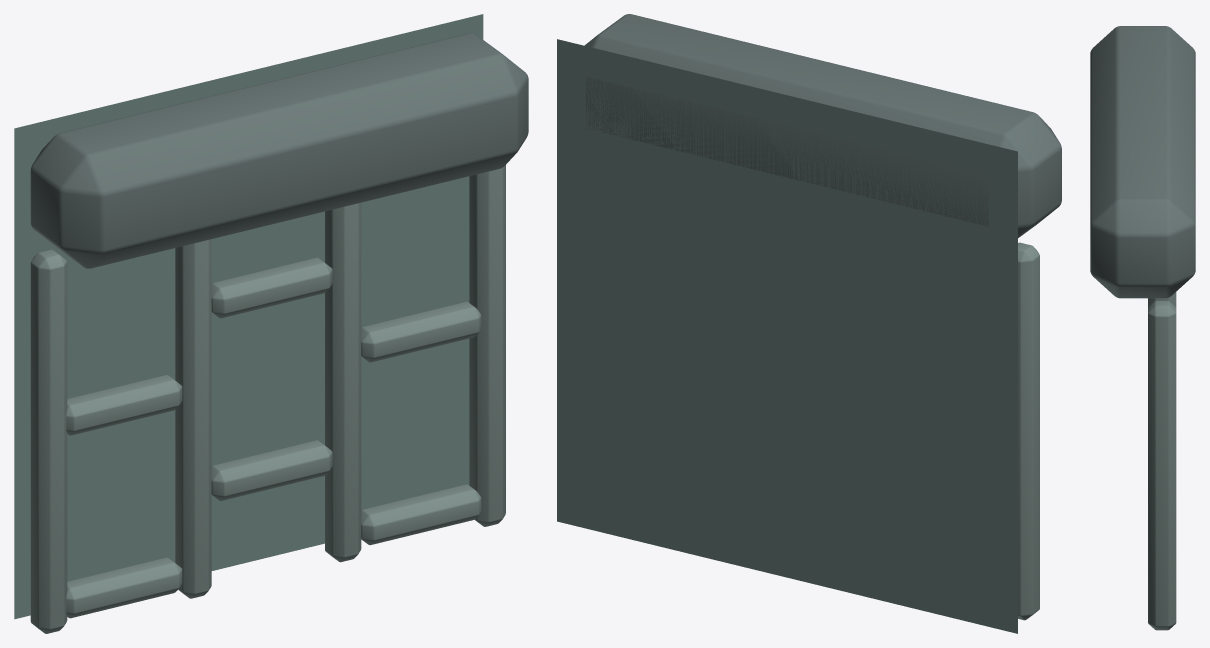
File: ground level.fbx
3 renders of one model, left to right at view 1: azimuth 30°, elevation 25°; view 2: azimuth 150°, elevation 25°; view 3: azimuth 270°, elevation 25°, orthographic. The views are drawn at different scales.
Parts seen in each view (by area): view 1: Plane.028; view 2: Plane.028; view 3: Plane.028.
Boxes of the visible parts, box(x1,y1,x2,y2) form: Plane.028: box(14, 14, 528, 633); Plane.028: box(557, 14, 1061, 633); Plane.028: box(1090, 26, 1195, 630).
Size of the model in its own units: 100 by 100 by 22.57.
